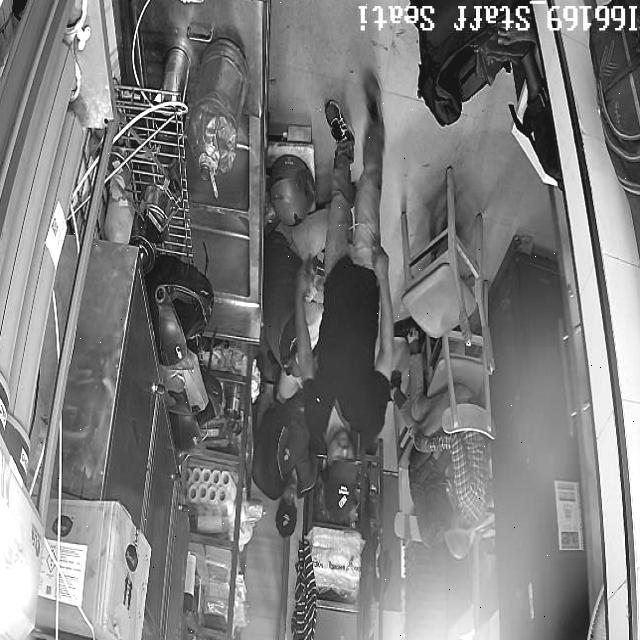helmet: (271, 155, 317, 227)
no_helmet: (146, 260, 213, 367), (322, 429, 358, 524), (442, 516, 475, 560), (275, 484, 298, 539)
